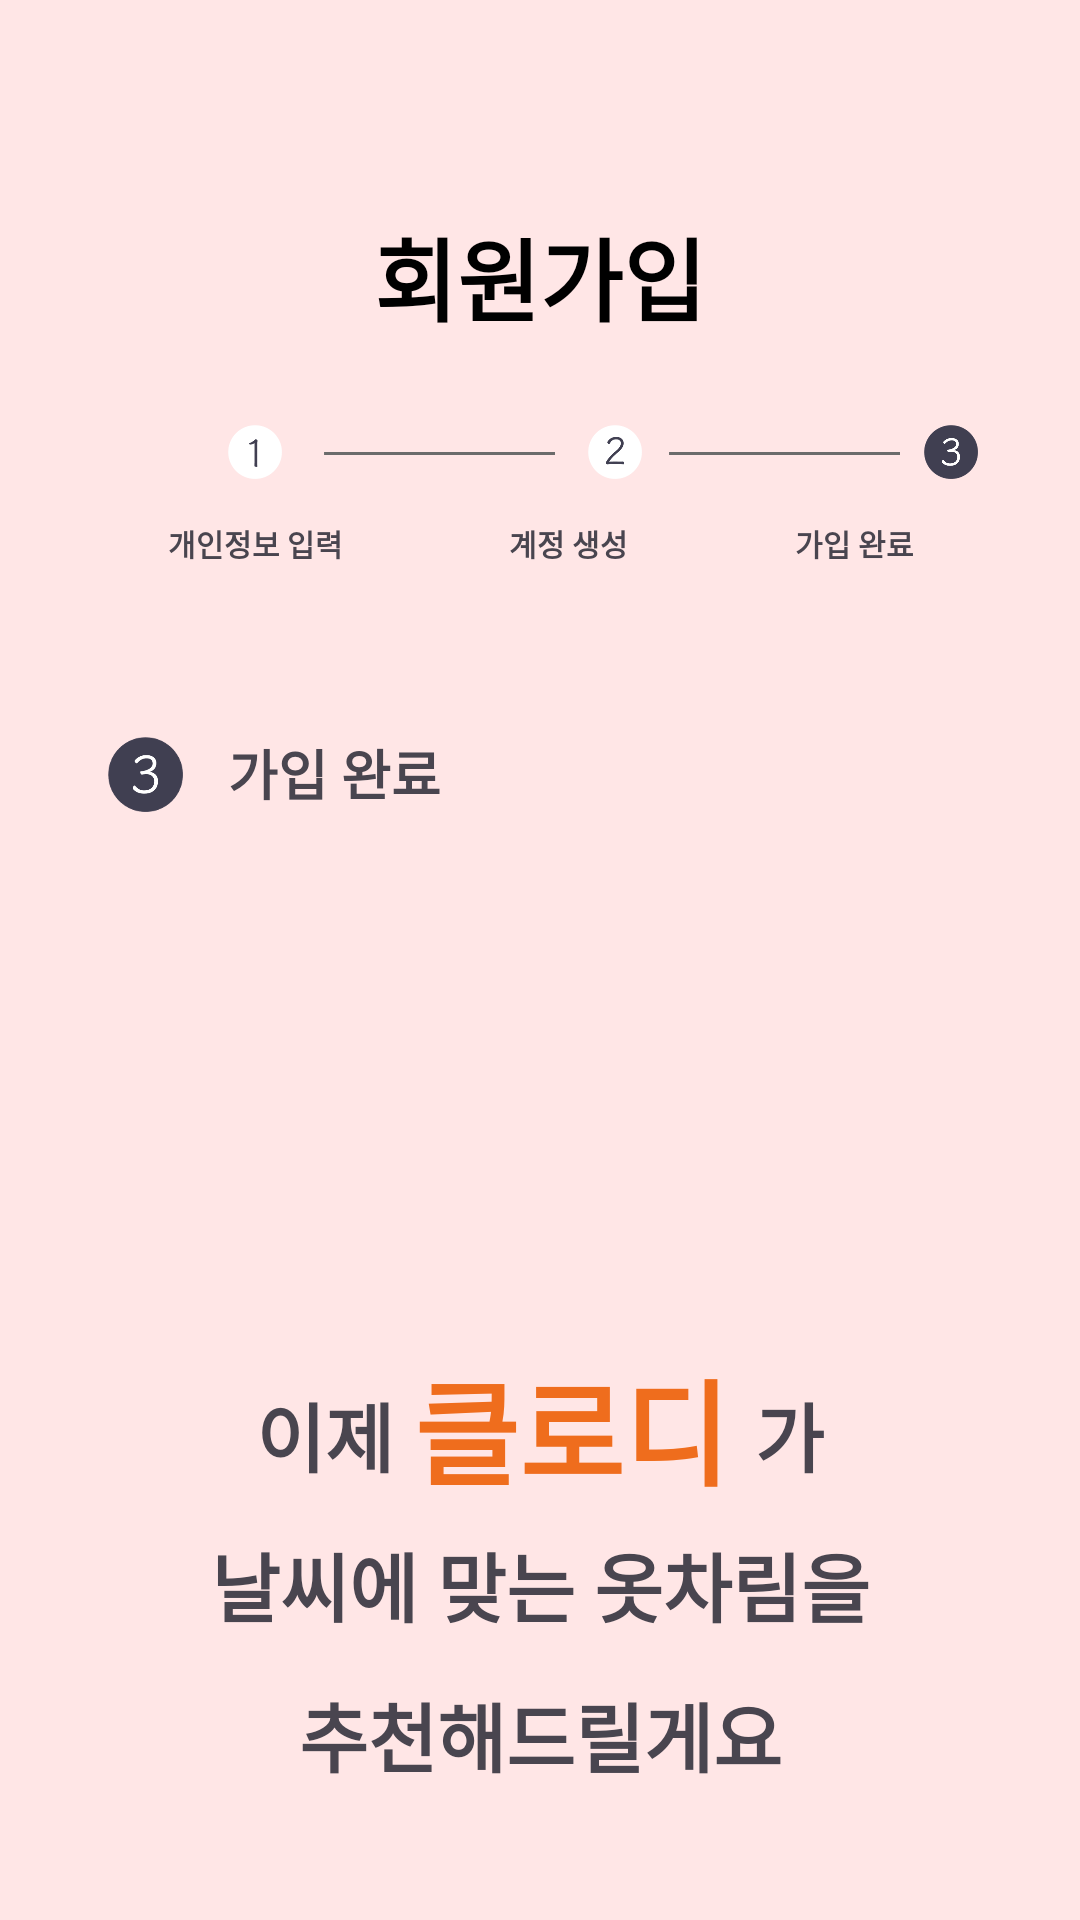

Screen size 1080 x 1920. Icon name, then its box in pixels as region(x1, y1, x2, y2):
step bcircle: region(924, 425, 978, 479), region(108, 737, 183, 812)
step wcircle: region(229, 426, 281, 478), region(589, 426, 641, 478)
